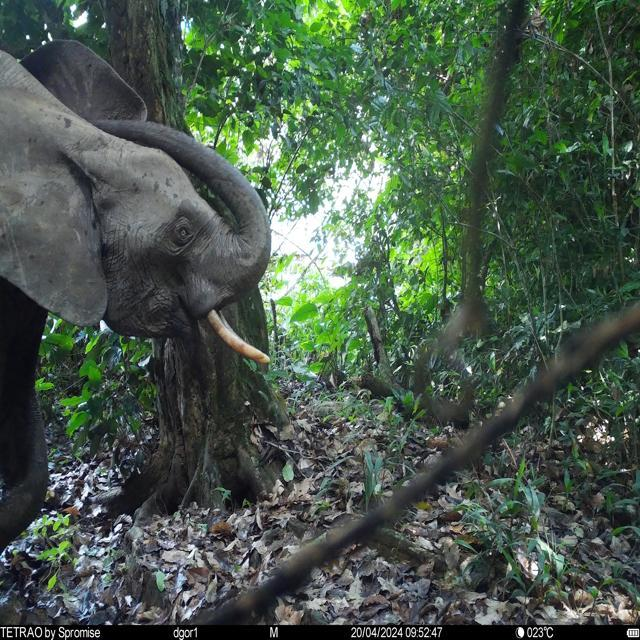ear: (0, 85, 110, 328), (18, 41, 149, 126)
elephant: (0, 42, 272, 560)
tusk: (207, 312, 270, 365)
